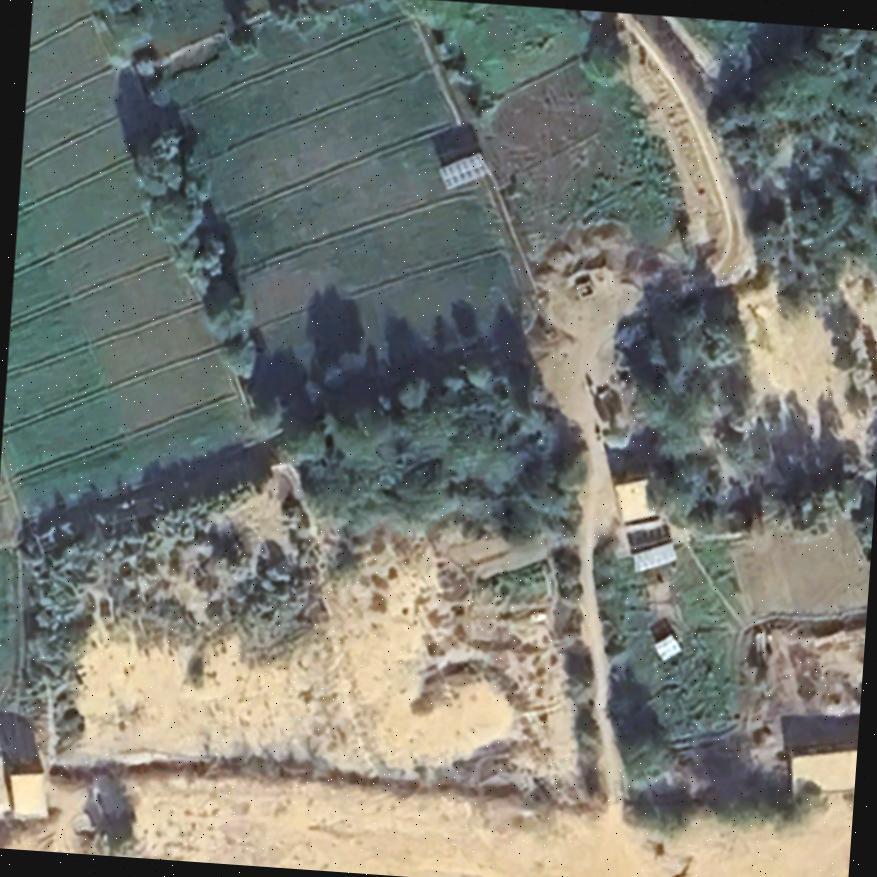Solarpanel: (433, 149, 498, 192), (628, 538, 682, 577), (647, 628, 682, 664)
